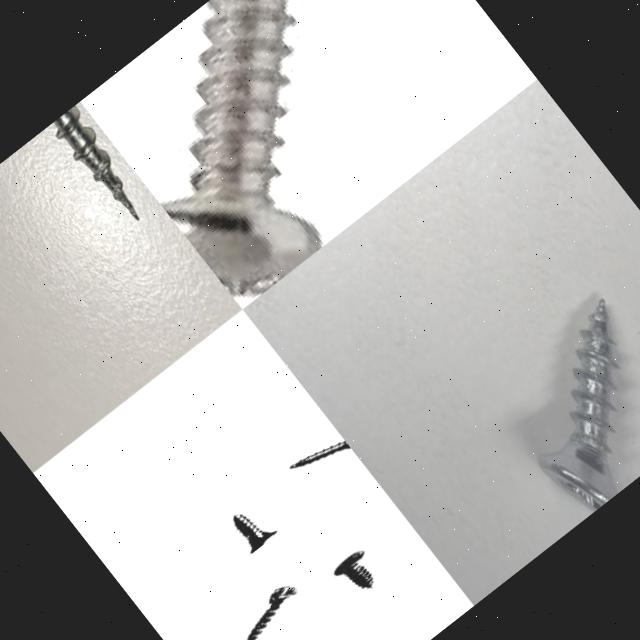Screw: (160, 0, 322, 297), (539, 299, 619, 511), (53, 106, 140, 220), (248, 586, 299, 640), (291, 440, 351, 468), (234, 514, 278, 552), (336, 550, 375, 588)
